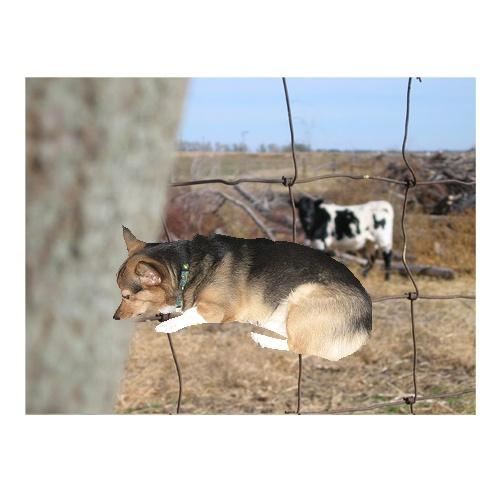tampered: (114, 226, 372, 361)
